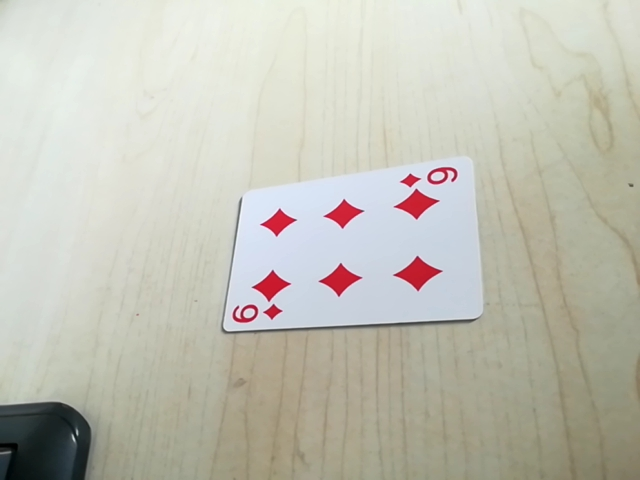fk 6: (399, 161, 464, 192), (228, 301, 286, 329)
